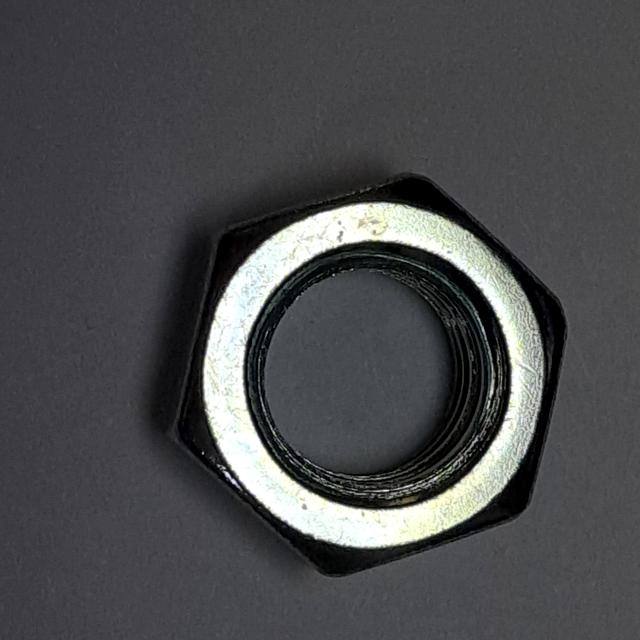Excellent: (145, 160, 578, 601)
